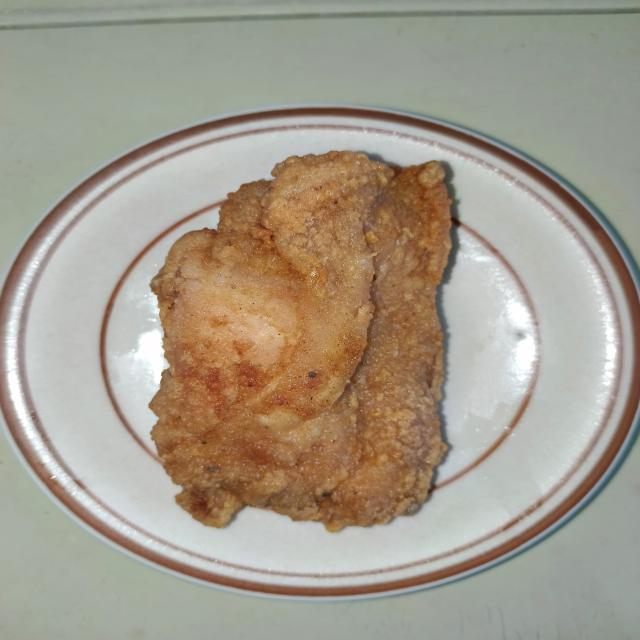Chicken -Fried Chicken-: (117, 138, 514, 547)
